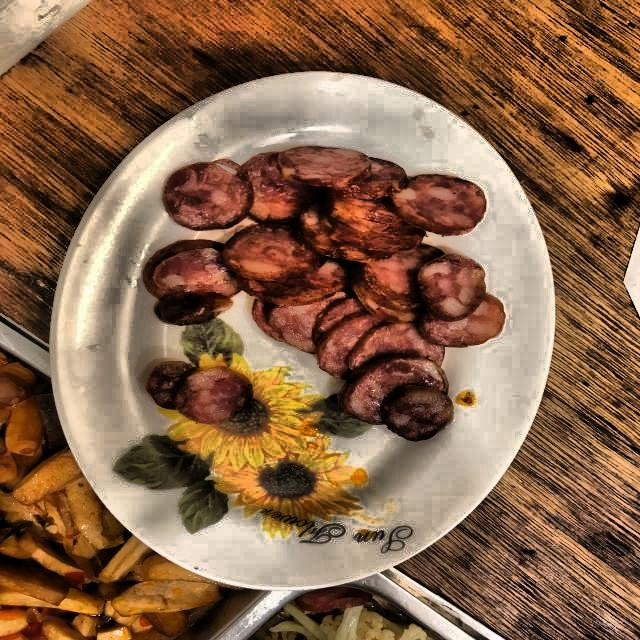Food: (143, 146, 500, 432)
